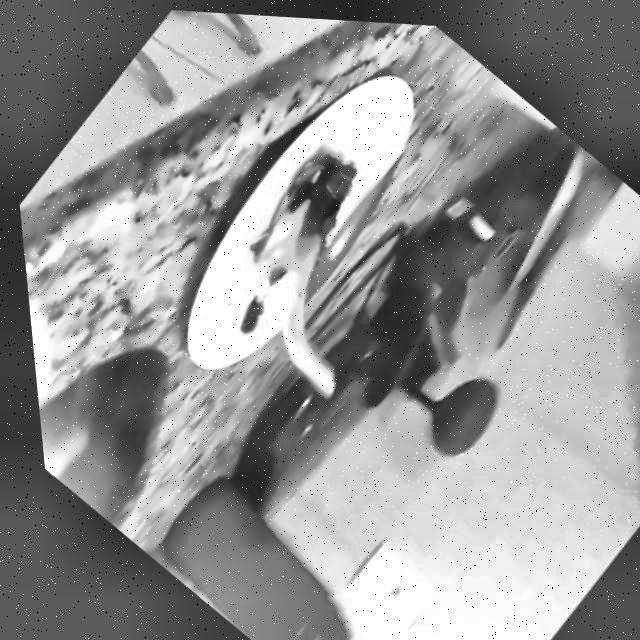Fire: (173, 115, 466, 408)
